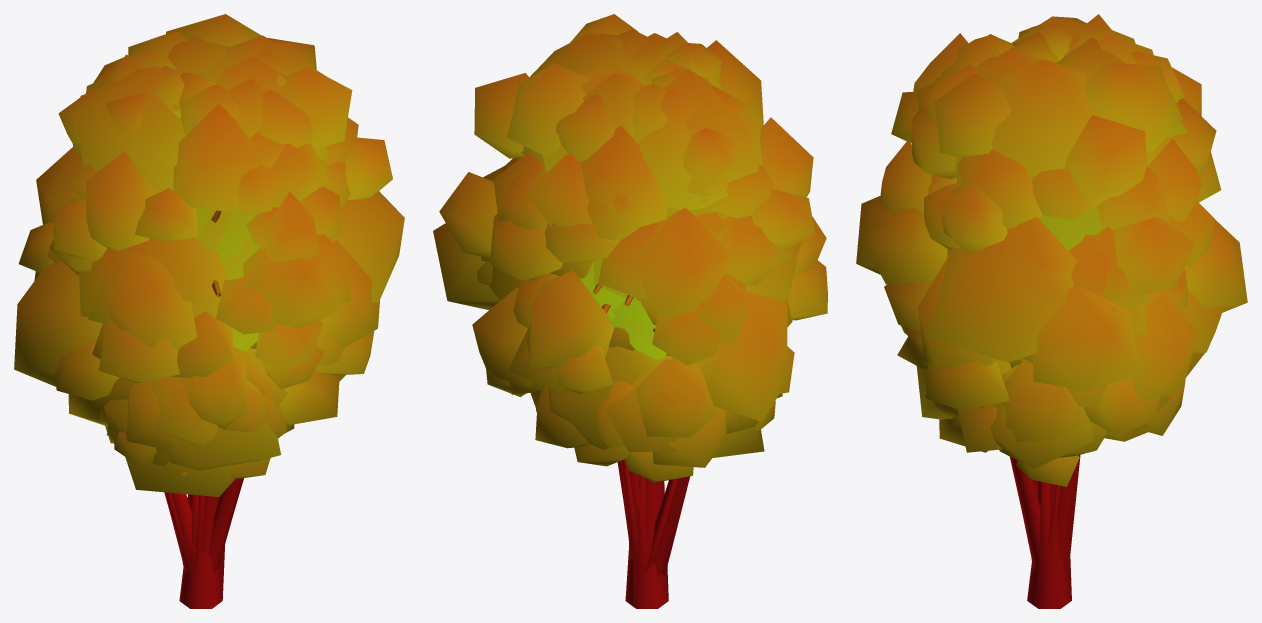
File: birch.glb
The picture shows the model from 3 angles, left to right: view 1: azimuth 30°, elevation 25°; view 2: azimuth 150°, elevation 25°; view 3: azimuth 270°, elevation 25°; orthographic projection. The views are drawn at different scales.
Visible parts, largest first — view 1: v1, v5, v0, v3, v1_far, v2, v0_far, v5_far, v3_far, v2_far, v4, v4_far; view 2: v1, v5, v0, v2, v3, v0_far, v1_far, v3_far, v4, v2_far, v4_far, v5_far; view 3: v5, v1, v5_far, v0, v3, v0_far, v2, v1_far, v2_far, v4, v3_far.
Part boxes in pixels (x1=…): v1: x1=14, y1=31, x2=379, y2=465; v5: x1=34, y1=14, x2=392, y2=608; v0: x1=18, y1=33, x2=350, y2=440; v3: x1=70, y1=79, x2=339, y2=574; v1_far: x1=76, y1=66, x2=280, y2=470; v2: x1=49, y1=49, x2=340, y2=556; v0_far: x1=88, y1=35, x2=327, y2=329; v5_far: x1=107, y1=34, x2=404, y2=598; v3_far: x1=86, y1=66, x2=258, y2=580; v2_far: x1=79, y1=56, x2=286, y2=568; v4: x1=153, y1=66, x2=257, y2=608; v4_far: x1=190, y1=67, x2=239, y2=606; v1: x1=472, y1=32, x2=826, y2=467; v5: x1=433, y1=14, x2=745, y2=608; v0: x1=477, y1=33, x2=827, y2=451; v2: x1=481, y1=43, x2=792, y2=559; v3: x1=493, y1=39, x2=796, y2=575; v0_far: x1=529, y1=33, x2=801, y2=449; v1_far: x1=489, y1=68, x2=762, y2=300; v3_far: x1=619, y1=87, x2=764, y2=576; v4: x1=550, y1=68, x2=708, y2=608; v2_far: x1=530, y1=29, x2=791, y2=577; v4_far: x1=631, y1=41, x2=723, y2=607; v5_far: x1=483, y1=67, x2=767, y2=606; v5: x1=856, y1=32, x2=1216, y2=608; v1: x1=879, y1=14, x2=1247, y2=457; v5_far: x1=927, y1=37, x2=1187, y2=608; v0: x1=866, y1=34, x2=1224, y2=430; v3: x1=884, y1=57, x2=1188, y2=571; v0_far: x1=955, y1=58, x2=1204, y2=377; v2: x1=905, y1=24, x2=1221, y2=561; v1_far: x1=916, y1=16, x2=1146, y2=419; v2_far: x1=976, y1=48, x2=1080, y2=554; v4: x1=947, y1=24, x2=1071, y2=592; v3_far: x1=1048, y1=34, x2=1079, y2=542.
Bounding box in the file's own units: 6.94 × 10.7 × 6.61.
